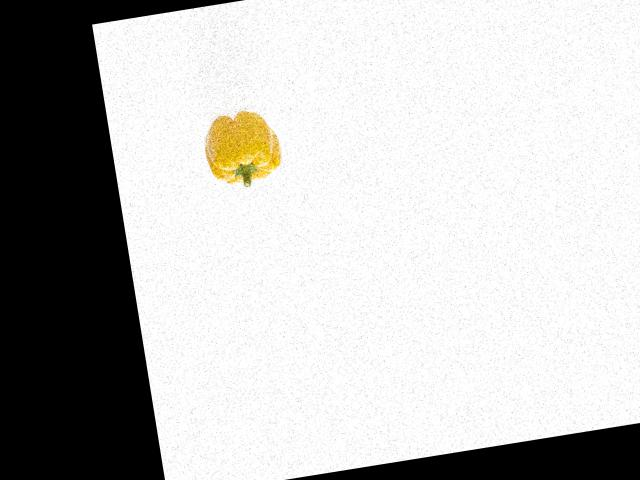bell_pepper: (200, 103, 291, 195)
